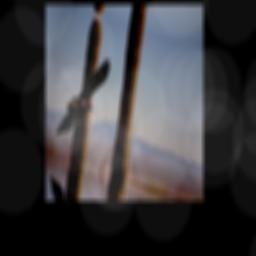Crow: (55, 43, 113, 151)
